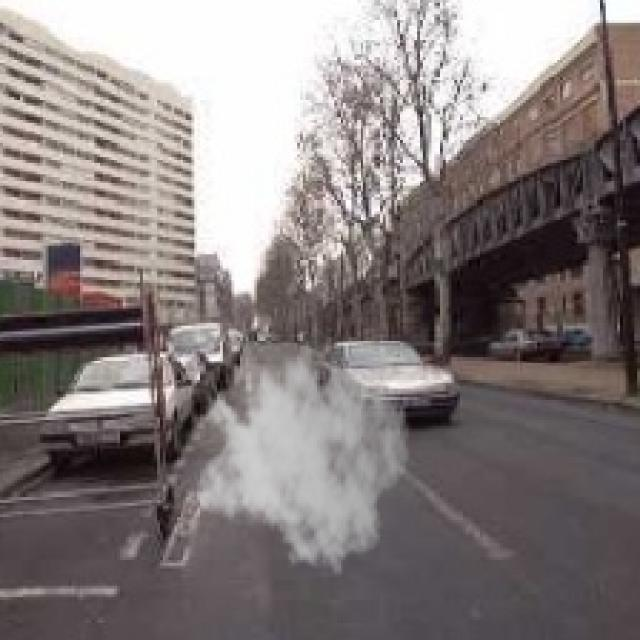Smoke: (195, 326, 412, 578)
